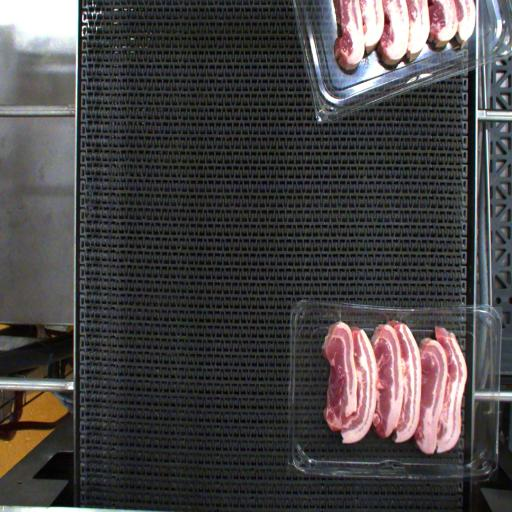packaging-error: (335, 307, 345, 328), (383, 316, 406, 323)
